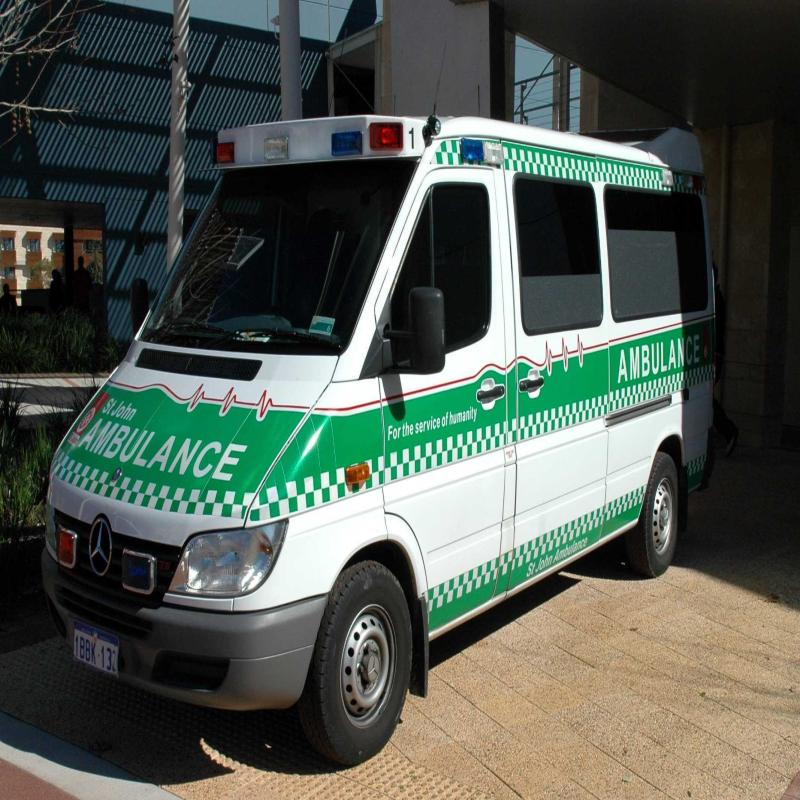AmbulanceSiren: (199, 108, 411, 166)
